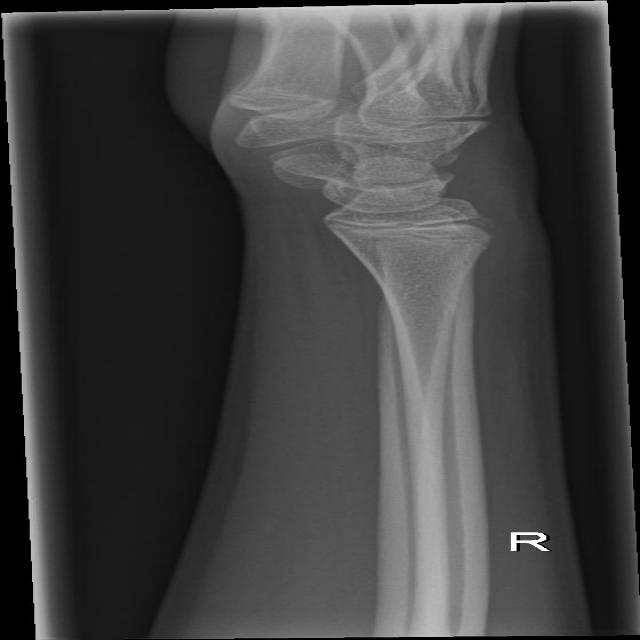fracture: (302, 216, 510, 246)
